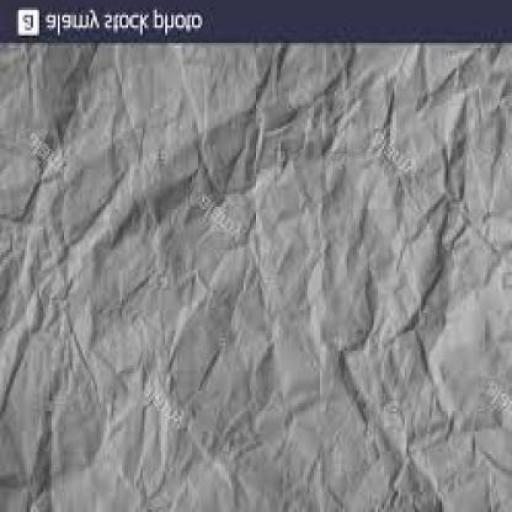paper: (0, 47, 511, 512)
